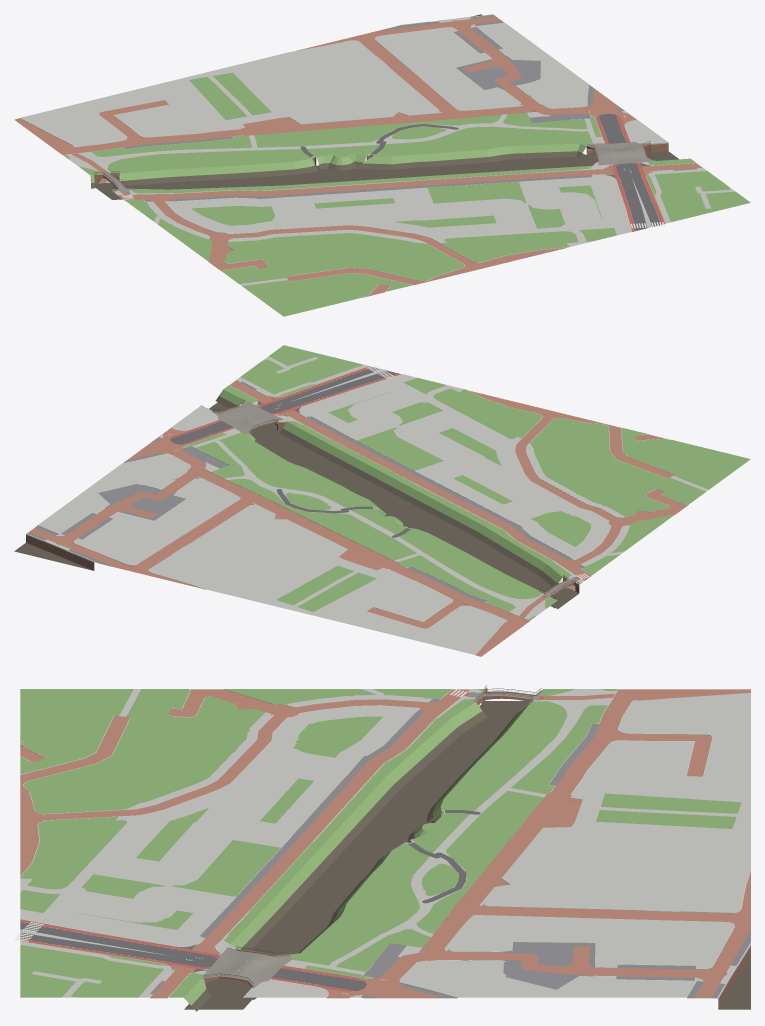
Rendered from ground_10_12.glb.
The picture shows the model from 3 angles, top to bottom: view 1: azimuth 30°, elevation 25°; view 2: azimuth 150°, elevation 25°; view 3: azimuth 270°, elevation 25°; orthographic projection. The views are drawn at different scales.
Parts seen in each view (by area): view 1: ground_10_12; view 2: ground_10_12; view 3: ground_10_12.
Boxes of the visible parts, x1,y1,x2,y2 form: ground_10_12: (14,14,750,316); ground_10_12: (14,345,750,656); ground_10_12: (14,685,750,1011).
Bounding box in the file's own units: 203 × 5.2 × 202.
